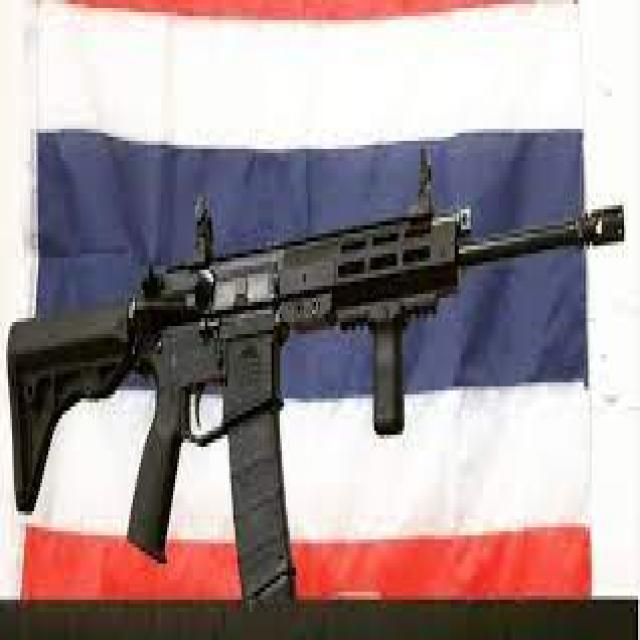m16: (4, 120, 636, 606)
